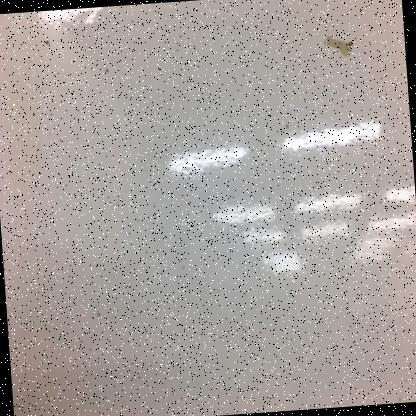Crack: (309, 15, 366, 76)
Nocrack: (3, 18, 302, 404)
